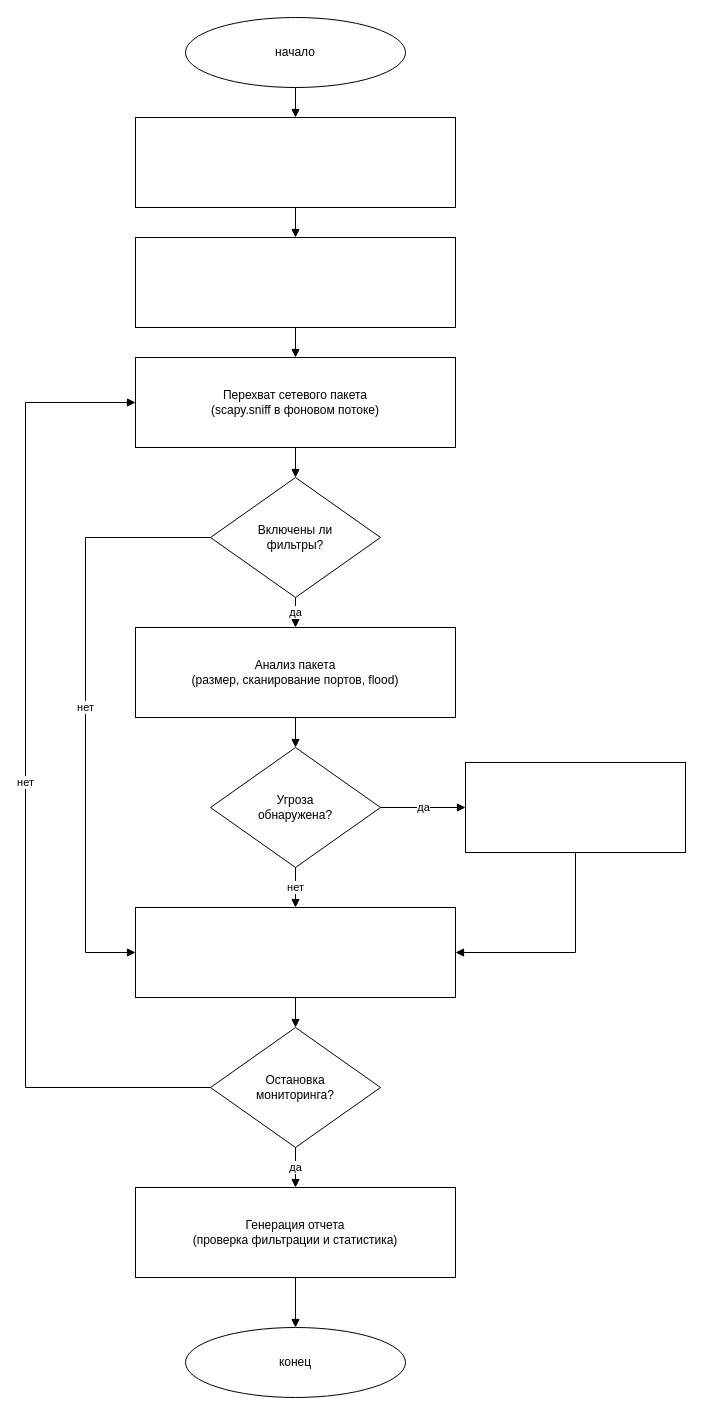
Image size: 703x1415. Some labels were removed from this diagram. The centre of each missing label's shape, as x and y in pixels:
Блокировка IP-адреса (iptables / FirewallManager): the point at 575,807
Инициализация компонентов (GUI, Analyzer, Firewall, Monitor): the point at 295,162
Обновление статистики и логов (GUI интерфейс): the point at 295,952
Ожидание запуска мониторинга (пользователь нажимает Start): the point at 295,282
